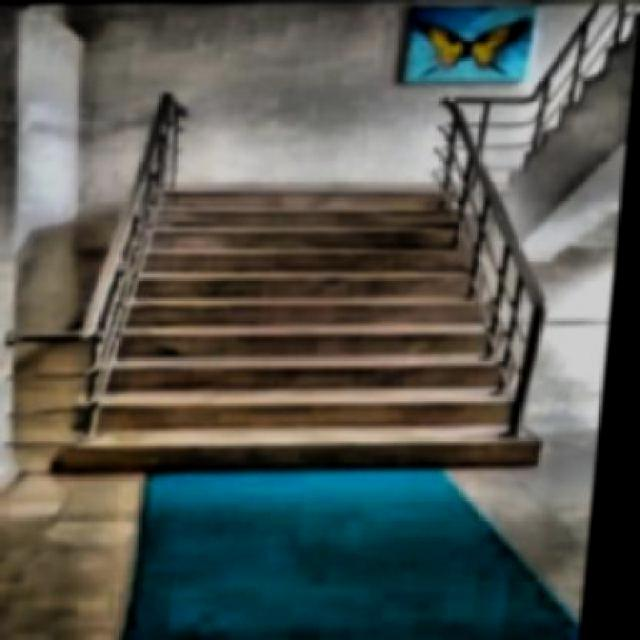stair: (64, 189, 550, 477)
